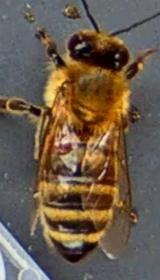varroa_mite: (43, 134, 83, 158)
